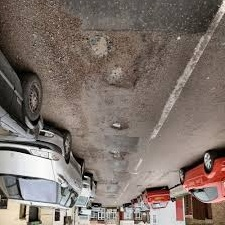pothole: (77, 32, 114, 60), (101, 65, 136, 93), (105, 143, 126, 162), (108, 120, 129, 132)
